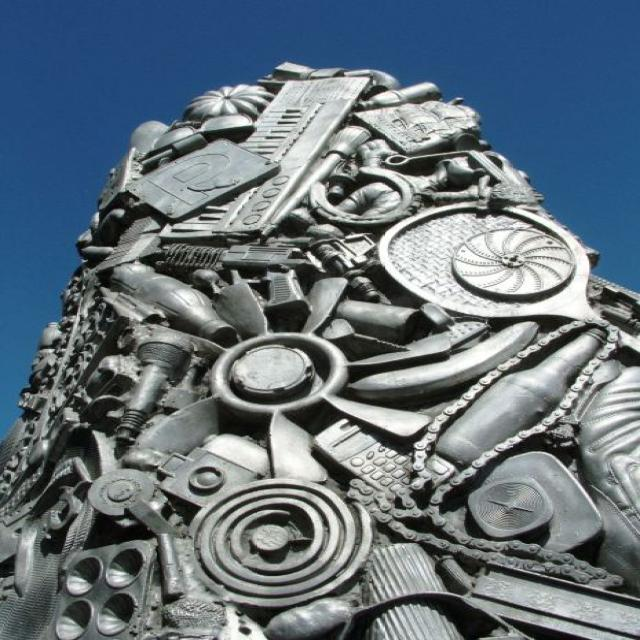metal: (70, 71, 629, 631)
